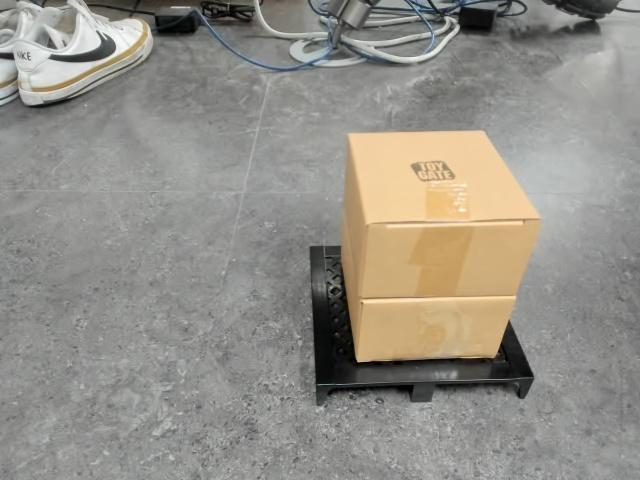box: (308, 129, 542, 407)
